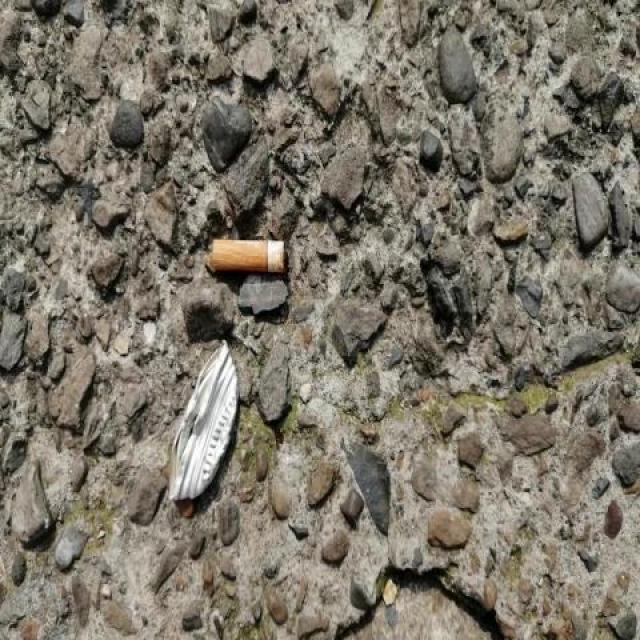non-organic waste: (206, 235, 294, 282)
